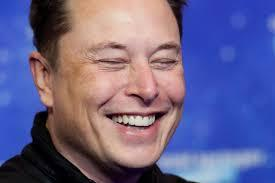Persons: (25, 1, 205, 172)
